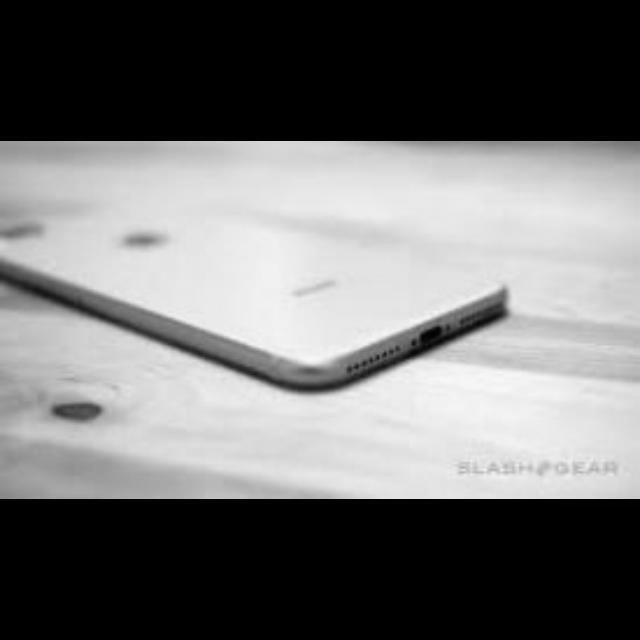fake: (17, 168, 540, 419)
